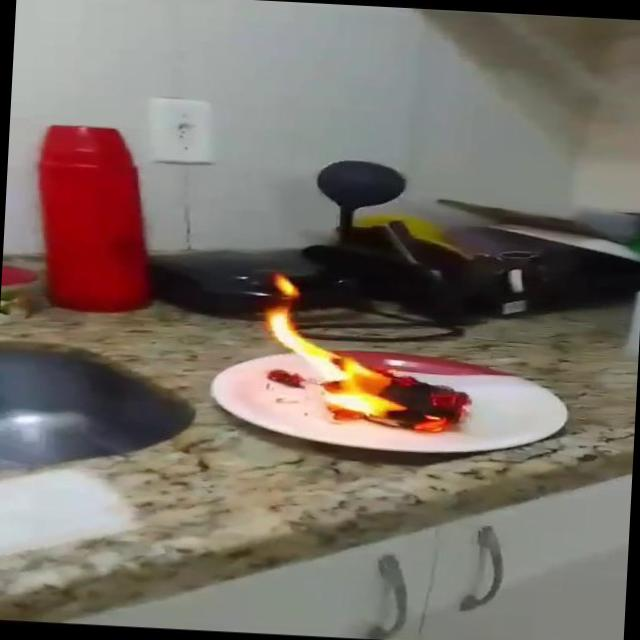Fire: (254, 271, 480, 439)
